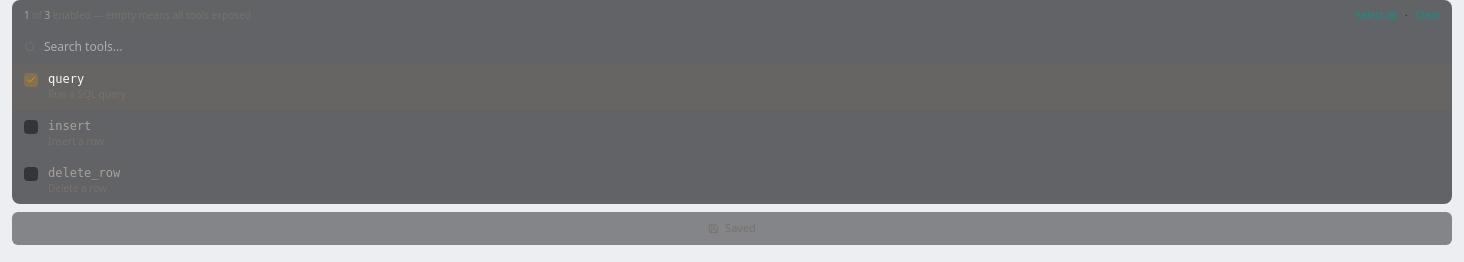
Test case: ToolsEditor › disables Save when clean, enables it with a diff count when dirty
Expected: the button "Saved" is disabled, [12,212,1452,244]
Click the option "insert Insert a row". click: (64, 134)
box: [24,119,104,148]
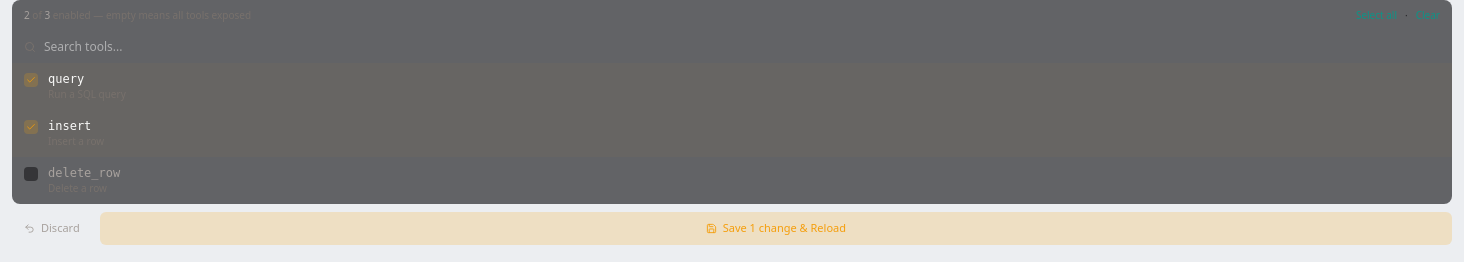
Now the button "Save 1 change & Reload" is enabled, box [100,212,1452,244]
